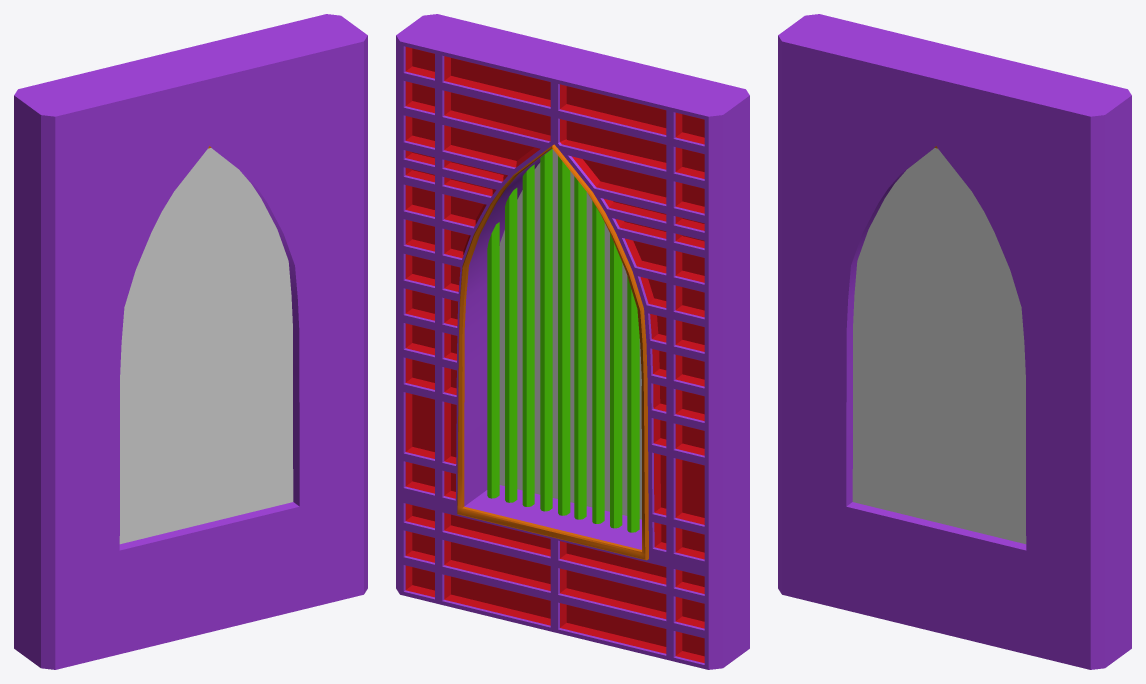
File: GothicWallV2UVID.fbx
The picture shows the model from 3 angles, left to right: view 1: azimuth 30°, elevation 25°; view 2: azimuth 150°, elevation 25°; view 3: azimuth 330°, elevation 25°; orthographic projection.
Parts seen in each view (by area): view 1: GothicWallV2, Backing; view 2: GothicWallV2, Grate, Backing; view 3: GothicWallV2, Backing.
Part boxes in pixels (<box>): GothicWallV2: <box>14,14,367,669</box>; Backing: <box>119,148,293,544</box>; GothicWallV2: <box>396,14,749,669</box>; Grate: <box>487,149,639,532</box>; Backing: <box>499,149,641,519</box>; GothicWallV2: <box>778,14,1131,669</box>; Backing: <box>852,148,1026,544</box>.
Size of the model in its own units: 200 by 323 by 42.62.
